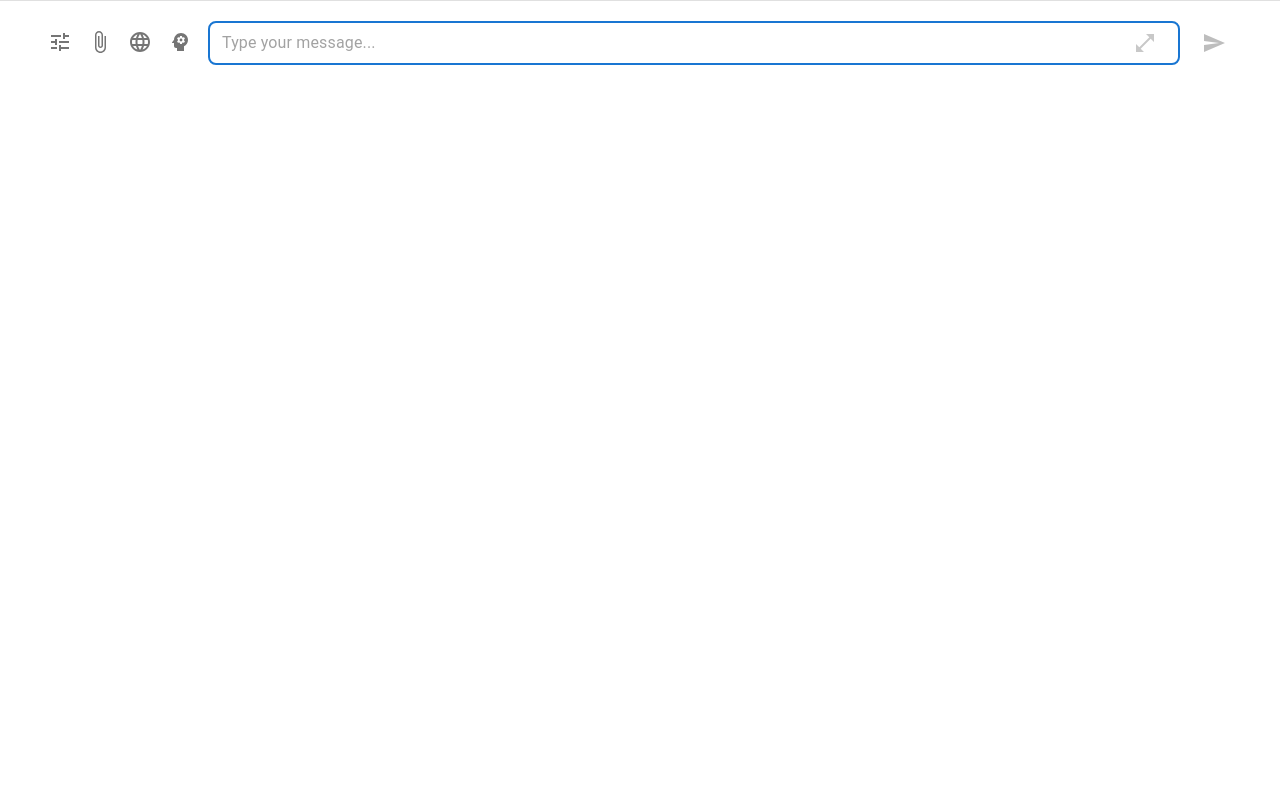
Test: Composer › shows the temperature selection UI when forceTemperature is NOT set
This screenshot has width=1280, height=800.
Open the settings menu
Click the button named "Chat settings" at coordinates (60, 42), box x1=40 y1=22 x2=80 y2=62
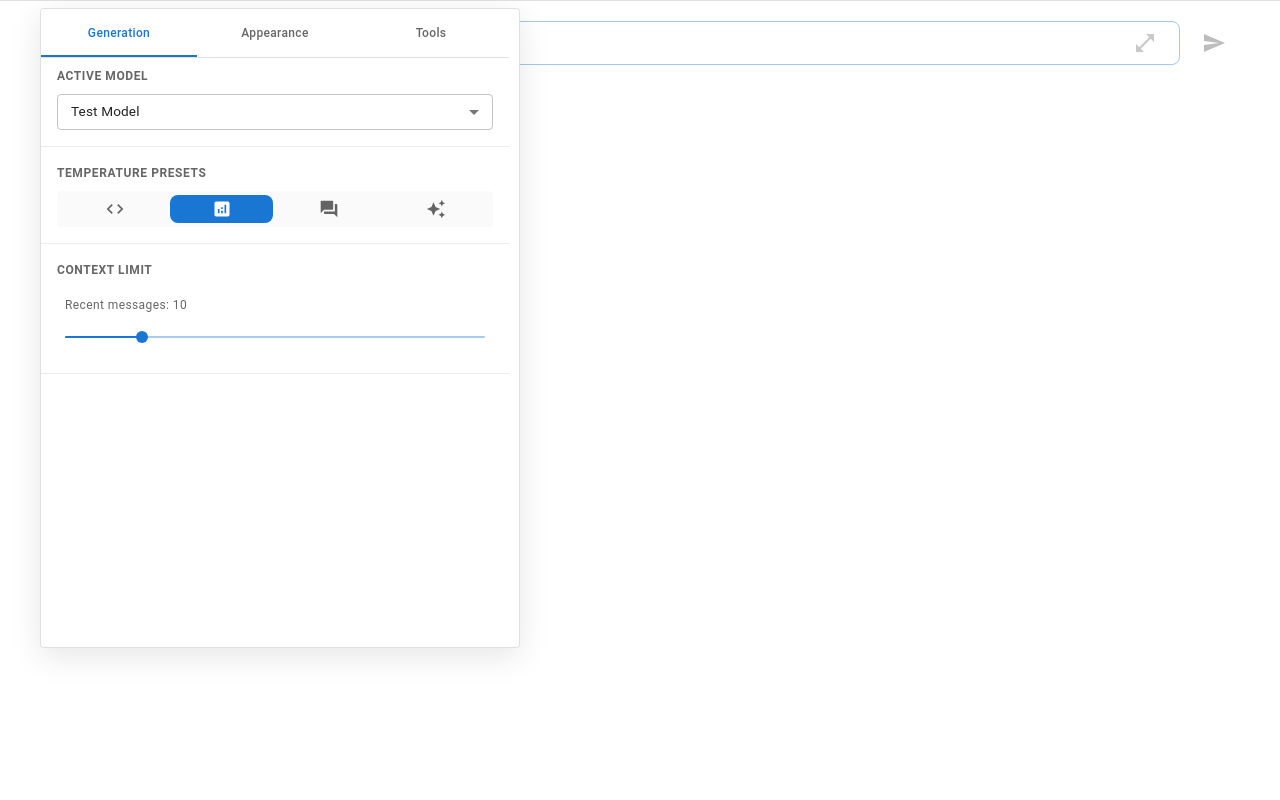
Result: the list item "Temperature Presets" is shown at x1=57 y1=166 x2=206 y2=180
